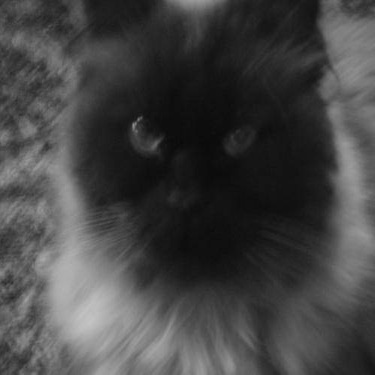cat: (41, 2, 364, 366)
